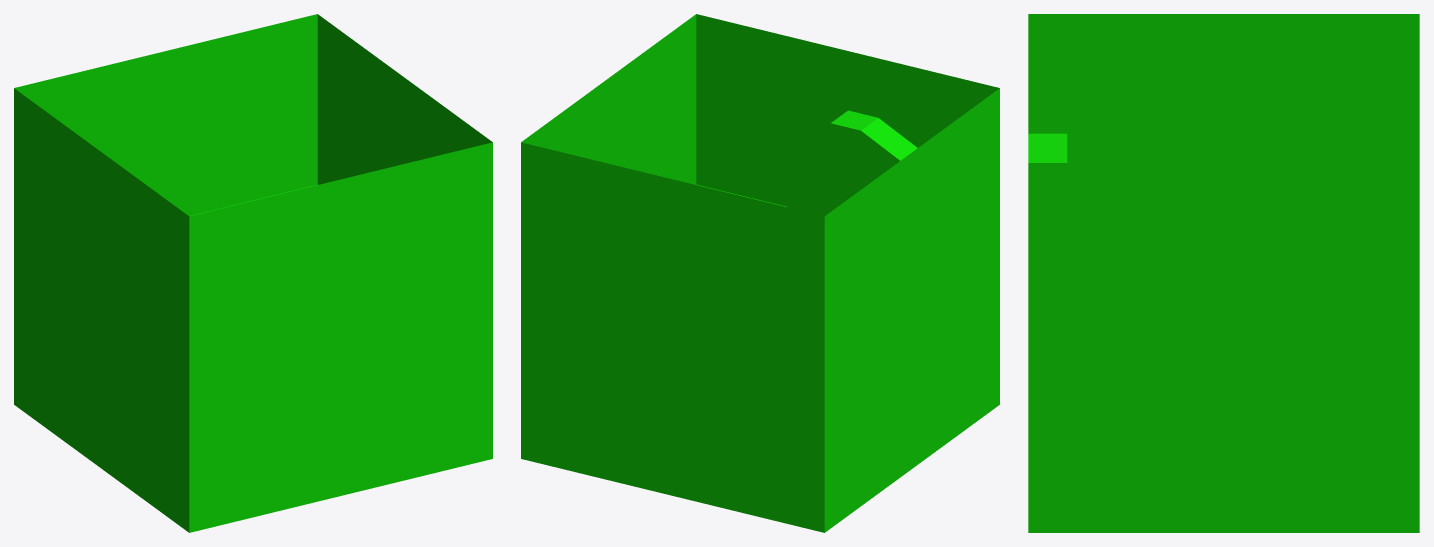
Rendered from MeshCollider_nivel1.fbx.
The picture shows the model from 3 angles, left to right: view 1: azimuth 30°, elevation 25°; view 2: azimuth 150°, elevation 25°; view 3: azimuth 270°, elevation 25°; orthographic projection. The views are drawn at different scales.
Parts seen in each view (by area): view 1: Nivel1meshCollider; view 2: Nivel1meshCollider; view 3: Nivel1meshCollider.
Part boxes in pixels (x1=…): Nivel1meshCollider: x1=14, y1=14, x2=492, y2=532; Nivel1meshCollider: x1=521, y1=14, x2=999, y2=532; Nivel1meshCollider: x1=1028, y1=14, x2=1419, y2=532.
Size of the model in its own units: 20 by 19.92 by 20.
